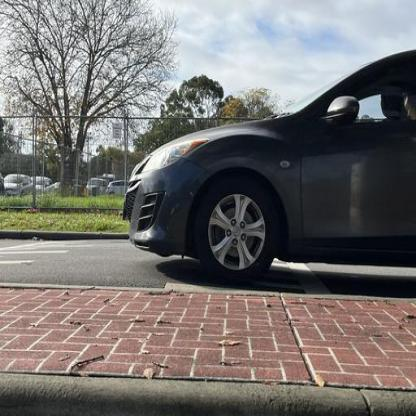Tire: (196, 177, 280, 282)
